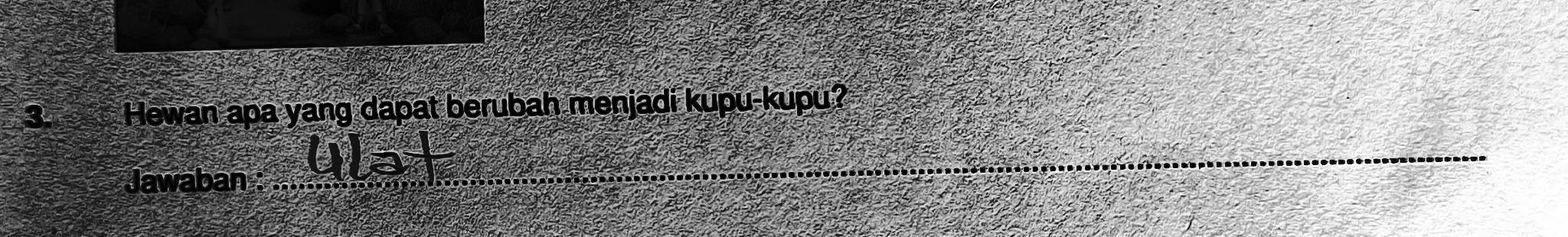jawaban: (309, 120, 460, 183)
